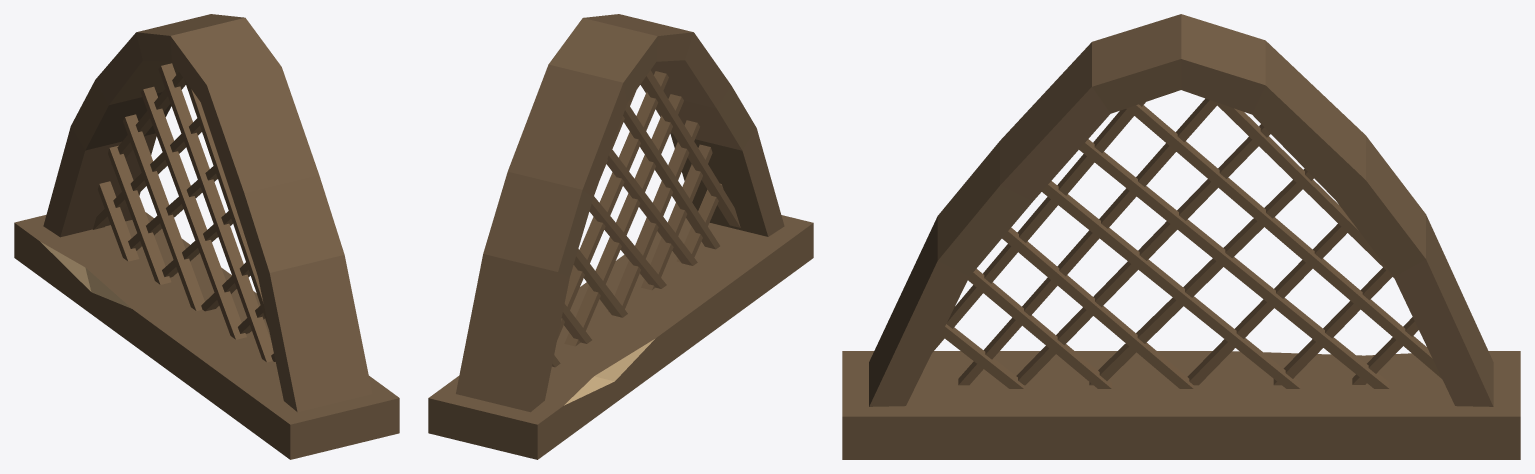
File: rpgpp_ag_roof_02d_half_window_01d.fbx
3 renders of one model, left to right at view 1: azimuth 30°, elevation 25°; view 2: azimuth 150°, elevation 25°; view 3: azimuth 270°, elevation 25°, orthographic. The views are drawn at different scales.
Visible parts, largest first — view 1: rpgpp_ag_roof_02d_half_window_01d; view 2: rpgpp_ag_roof_02d_half_window_01d; view 3: rpgpp_ag_roof_02d_half_window_01d.
Boxes of the visible parts, box(x1,y1,x2,y2) form: rpgpp_ag_roof_02d_half_window_01d: box(14, 14, 399, 459); rpgpp_ag_roof_02d_half_window_01d: box(428, 14, 813, 459); rpgpp_ag_roof_02d_half_window_01d: box(842, 14, 1520, 459).
Bounding box in the file's own units: 0.4966 × 1.38 × 2.17.
